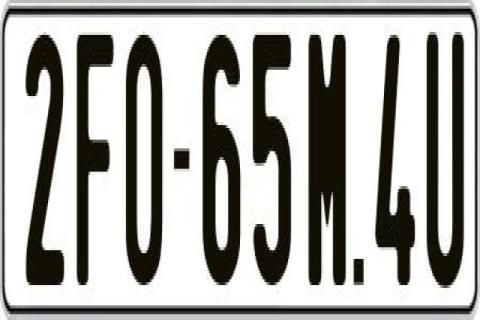0: (252, 35, 298, 294), (200, 29, 244, 294), (23, 35, 66, 297), (374, 35, 414, 297), (124, 32, 165, 282)
F: (74, 26, 110, 288)
M: (306, 32, 346, 288)
U: (424, 32, 462, 291)
